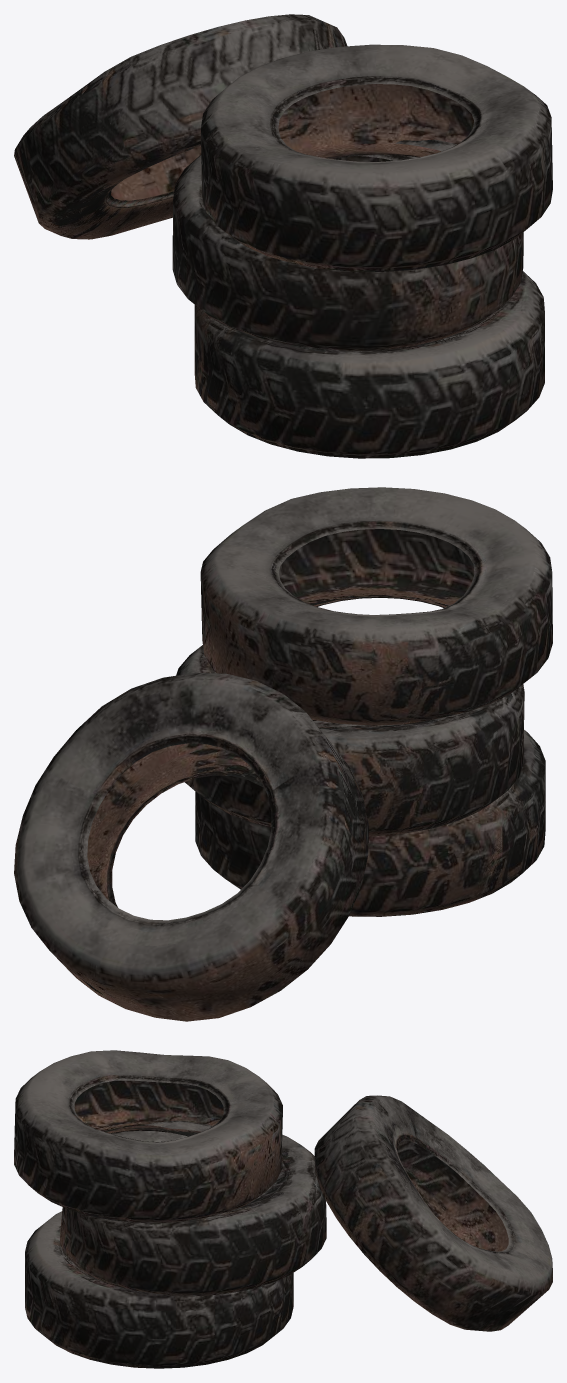
File: dæk.dae
3 renders of one model, top to bottom at view 1: azimuth 30°, elevation 25°; view 2: azimuth 150°, elevation 25°; view 3: azimuth 270°, elevation 25°, orthographic. The views are drawn at different scales.
Visible parts, largest first — view 1: defaultMaterial_col; view 2: defaultMaterial_col; view 3: defaultMaterial_col.
Part boxes in pixels (left/top/right/bottom): defaultMaterial_col: left=14, top=14, right=552, bottom=458; defaultMaterial_col: left=14, top=487, right=552, bottom=1021; defaultMaterial_col: left=14, top=1050, right=552, bottom=1368.
Size of the model in its own units: 1 by 2 by 0.911.
1 material, 1 textured.
